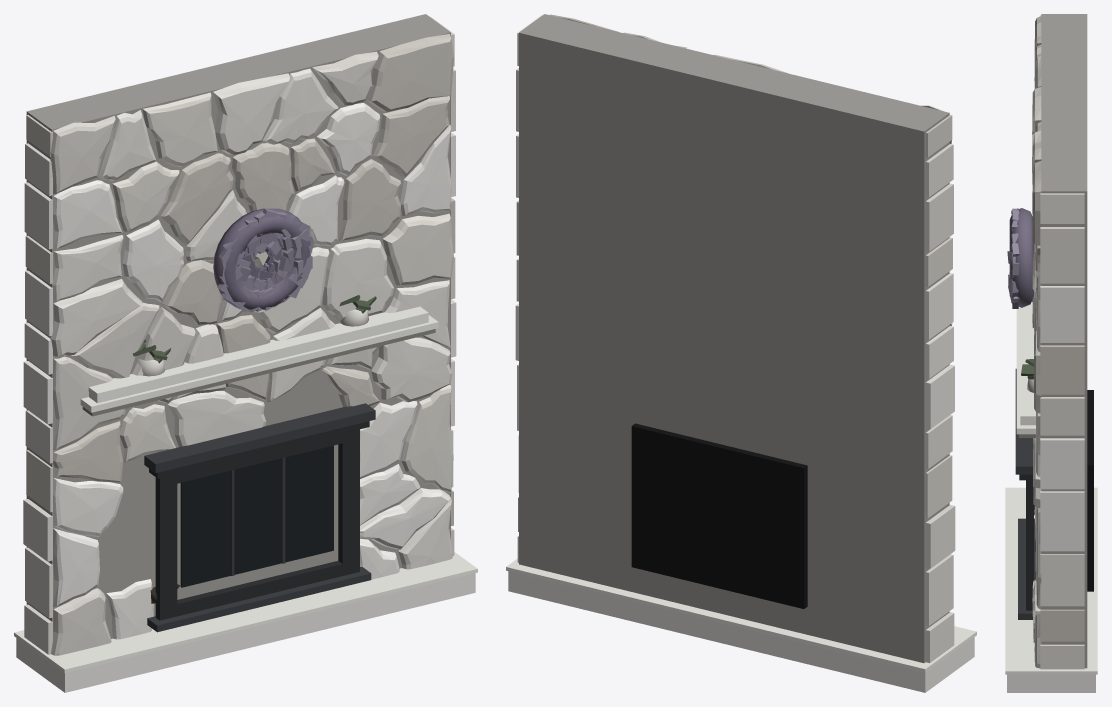
File: fireplace3.glb
The picture shows the model from 3 angles, left to right: view 1: azimuth 30°, elevation 25°; view 2: azimuth 150°, elevation 25°; view 3: azimuth 270°, elevation 25°; orthographic projection. The views are drawn at different scales.
Visible parts, largest first — view 1: root; view 2: root; view 3: root.
Boxes of the visible parts, bbox=[...] form: root: bbox=[14, 14, 477, 692]; root: bbox=[506, 14, 976, 692]; root: bbox=[1005, 14, 1097, 692].
Bounding box in the file's own units: 2.16 × 2.76 × 0.4602.
